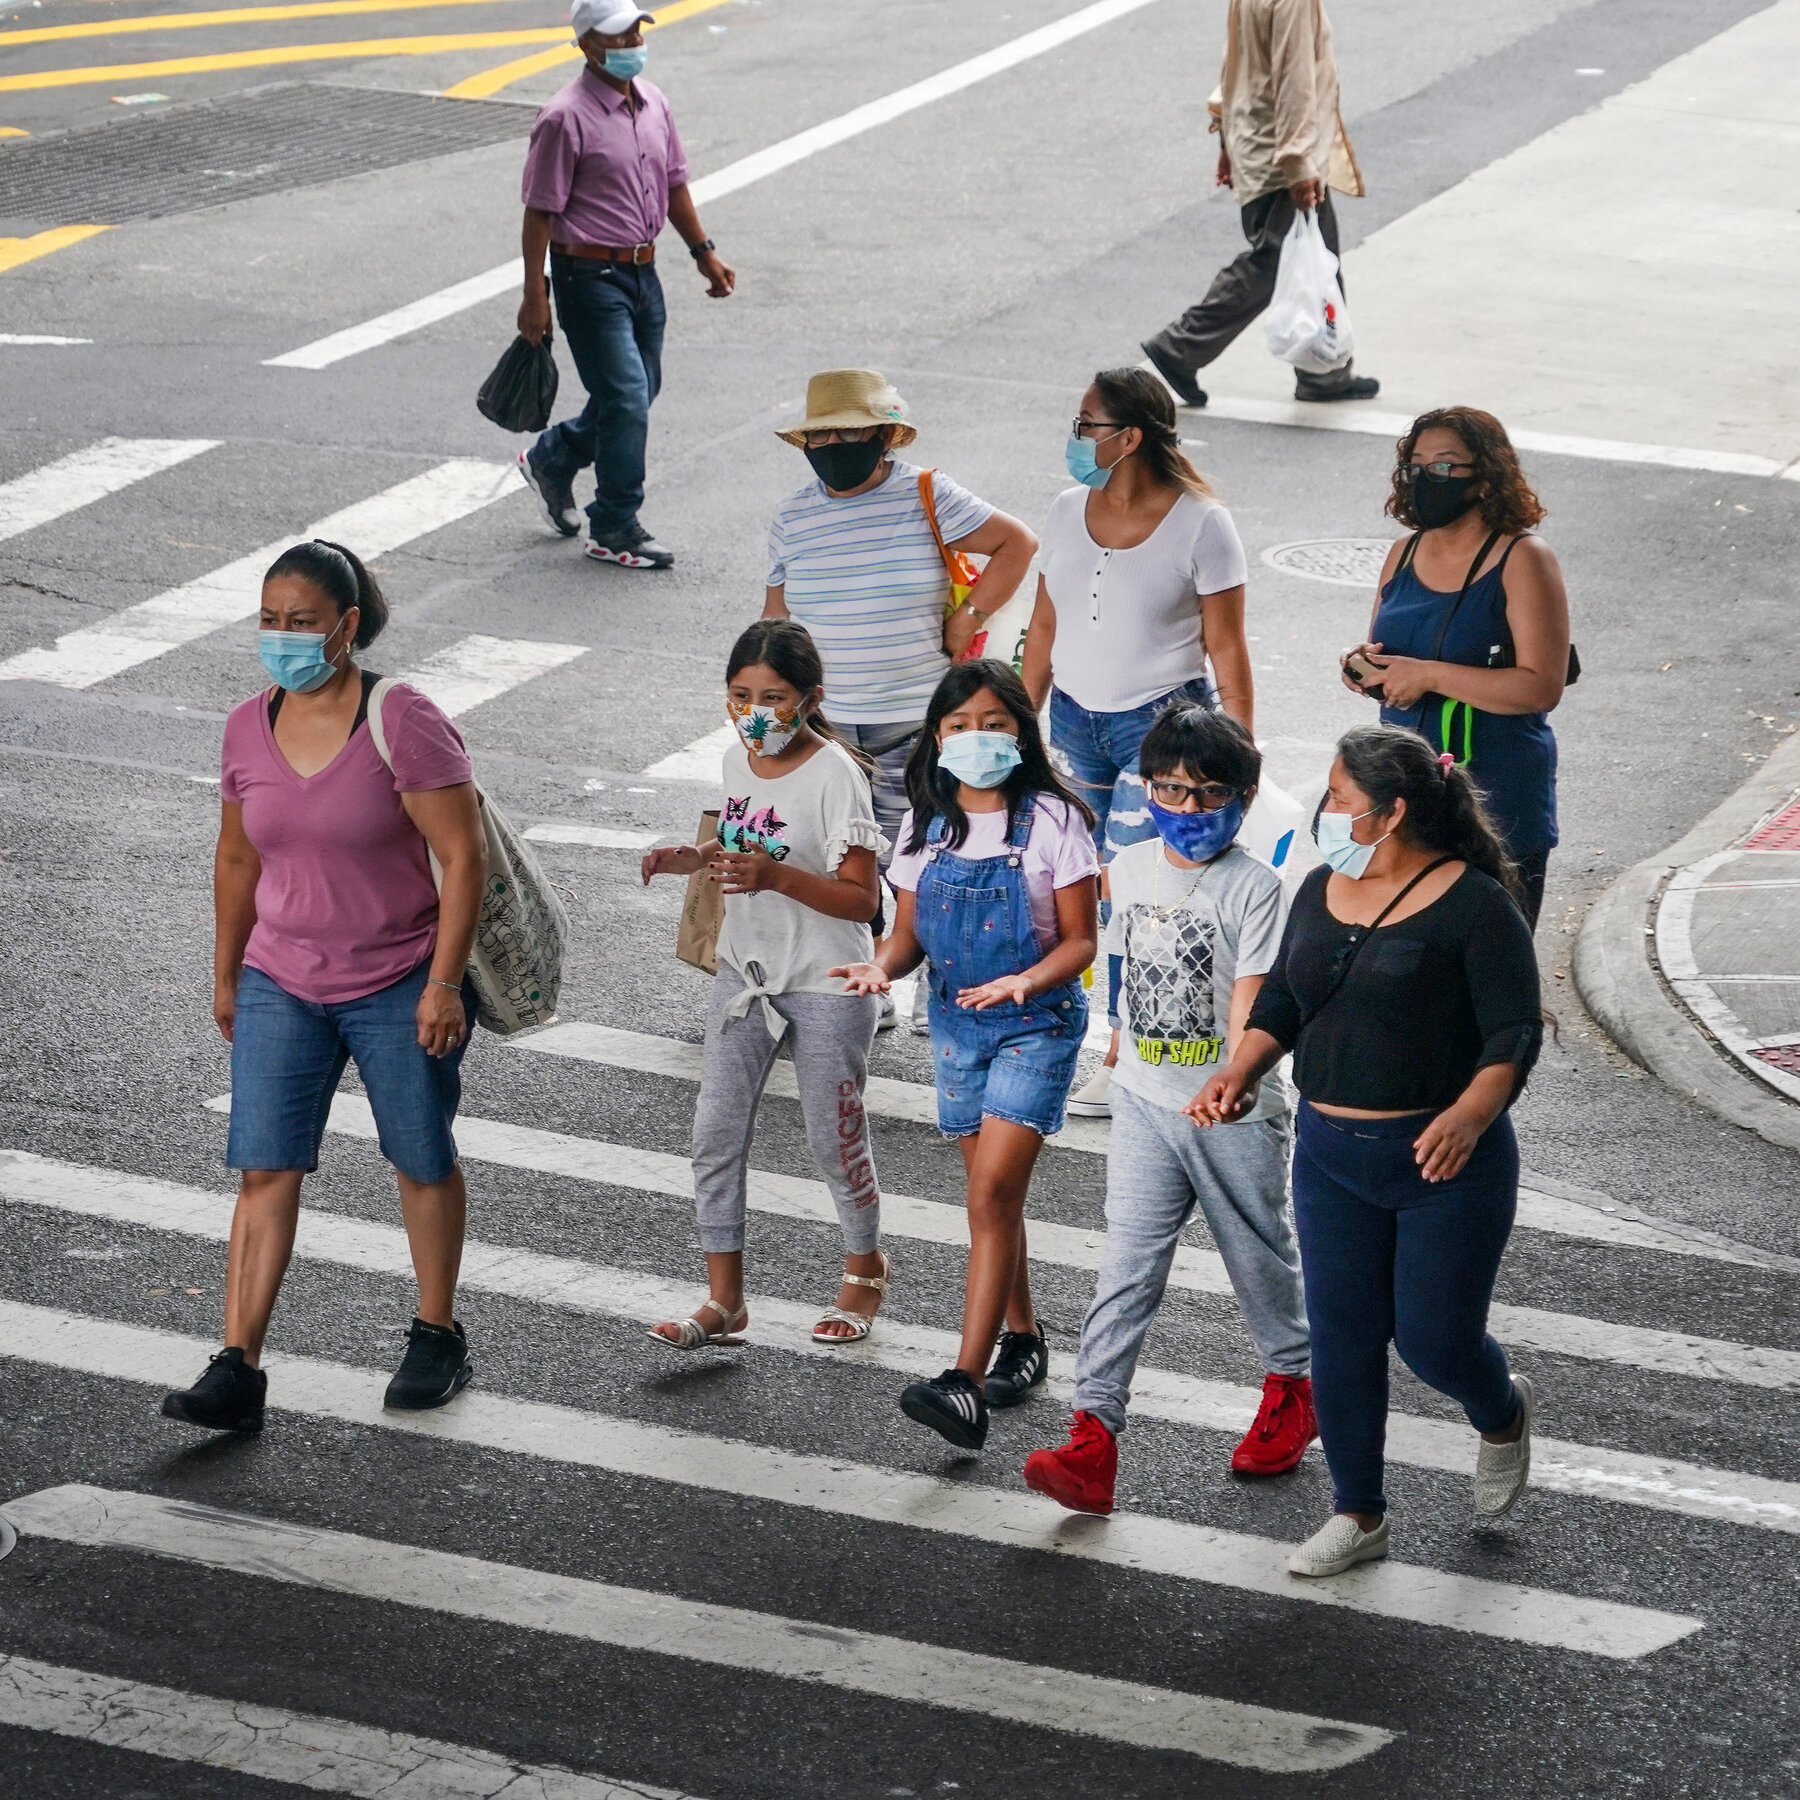with_mask: (255, 576, 337, 686), (1317, 786, 1379, 880), (1067, 396, 1125, 488), (1413, 452, 1471, 538), (811, 402, 871, 484), (943, 708, 1009, 770), (733, 674, 789, 742), (591, 22, 643, 88), (1171, 774, 1219, 842)
